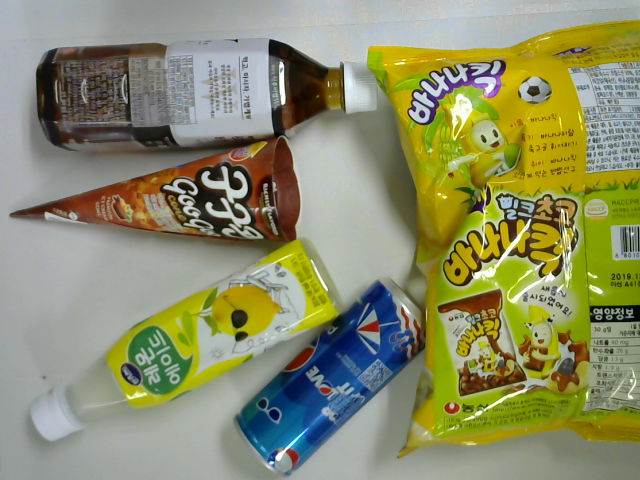Banana_Kick: (365, 20, 640, 460)
GooGoo_Cone_CVS: (9, 136, 316, 247)
Pepsi_Cola_Can_250ml: (231, 275, 431, 477)
Post-meal_recipe_W_tea_500ml: (33, 31, 378, 156)
Sunkist_Lemonaid_Pet: (24, 238, 343, 447)
